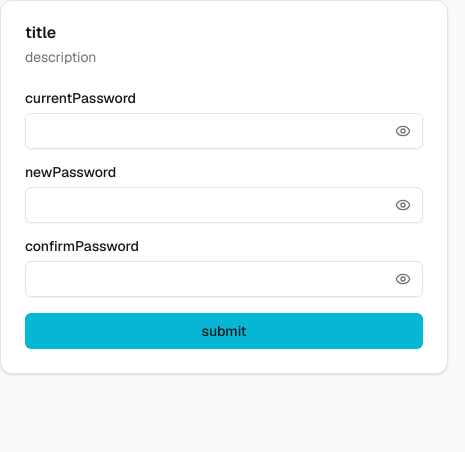
Test: ChangePasswordForm › reports a wrong current password
In the password field labelled "currentPassword": (224, 131) [25,113,423,149], type "wrongPass1"
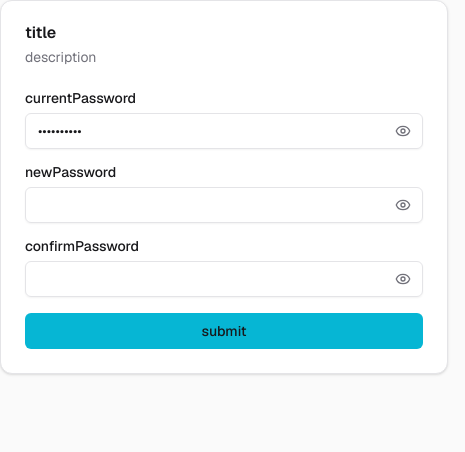
In the password field labelled "newPassword": (224, 205) [25,187,423,223], type "newPass123"
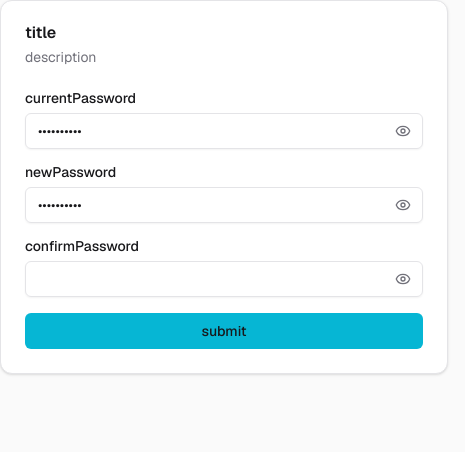
In the password field labelled "confirmPassword": (224, 279) [25,261,423,297], type "newPass123"
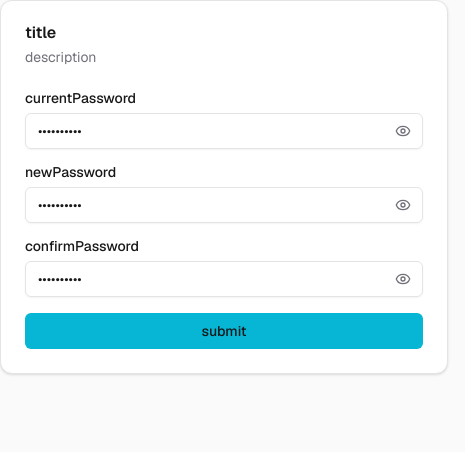
Click the button "submit": (224, 331) [25,313,423,349]
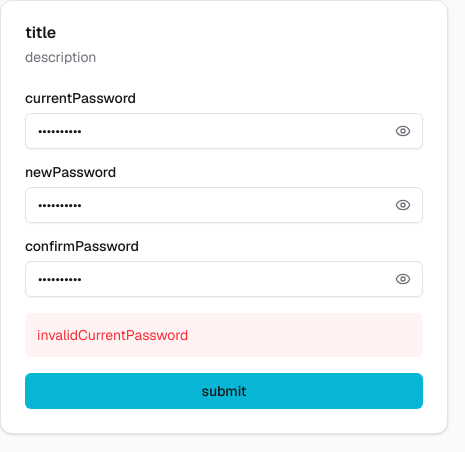
Result: the message reads "invalidCurrentPassword" at [37,326,188,344]
